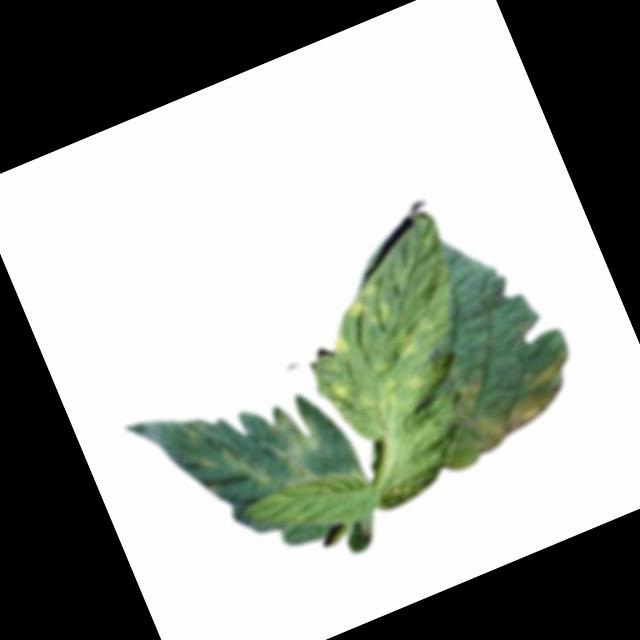Leaf_Mold: (258, 395, 335, 489), (471, 381, 571, 452), (337, 275, 396, 339), (517, 349, 573, 394), (445, 375, 490, 418), (388, 325, 422, 363), (325, 373, 354, 404), (399, 366, 426, 394), (329, 331, 350, 358)
